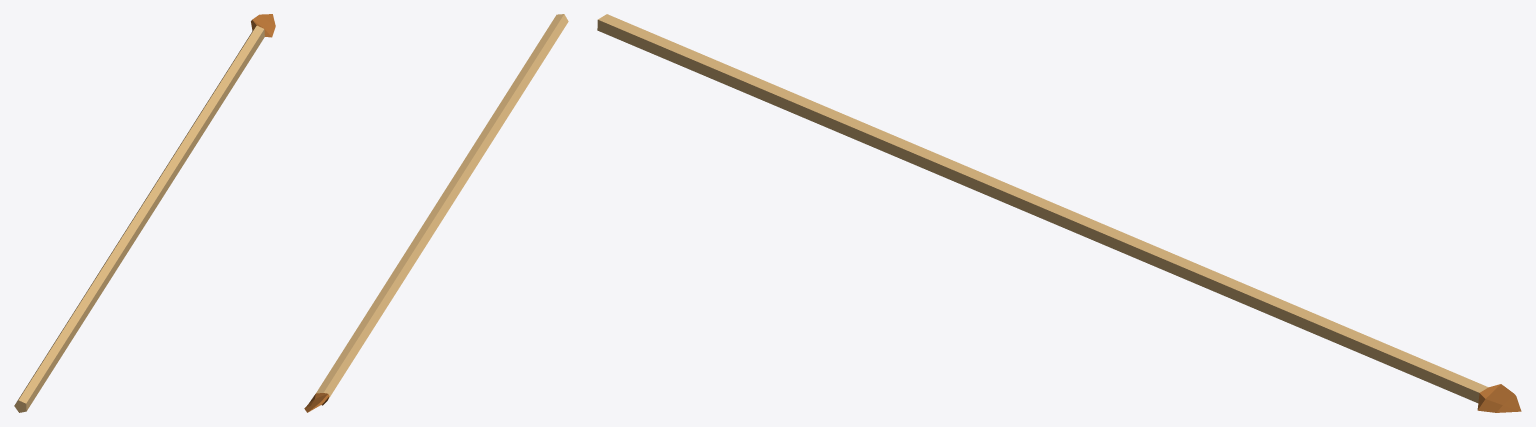
The model's file is copper_spear.glb.
The picture shows the model from 3 angles, left to right: view 1: azimuth 30°, elevation 25°; view 2: azimuth 210°, elevation 25°; view 3: azimuth 270°, elevation 25°; orthographic projection. The views are drawn at different scales.
Parts seen in each view (by area): view 1: copper_spear; view 2: copper_spear; view 3: copper_spear.
Boxes of the visible parts, x1,y1,x2,y2 form: copper_spear: (14,14,275,412); copper_spear: (304,14,568,412); copper_spear: (597,14,1521,412).
Bounding box in the file's own units: 0.9041 × 0.0221 × 0.8977.
